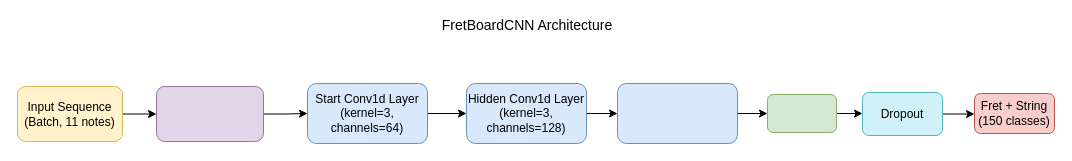
Some shapes in this 1072 by 161 pixel diagram are drawn without their labels. Each missing label, with the centre of its shape:
Embedding Layer (Batch, 32, 11): (x=210, y=114)
Flatten: (x=801, y=113)
Output Conv1d Layer (kernel=3, channels=256 ): (x=677, y=113)
